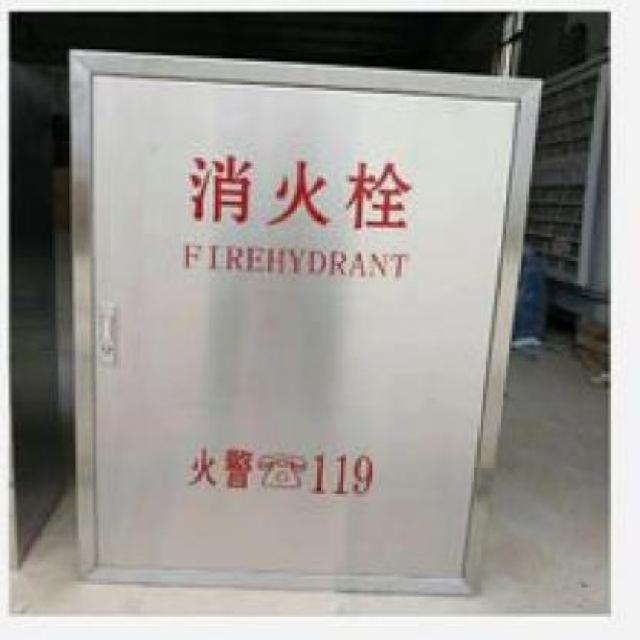firehydrant: (63, 42, 549, 600)
